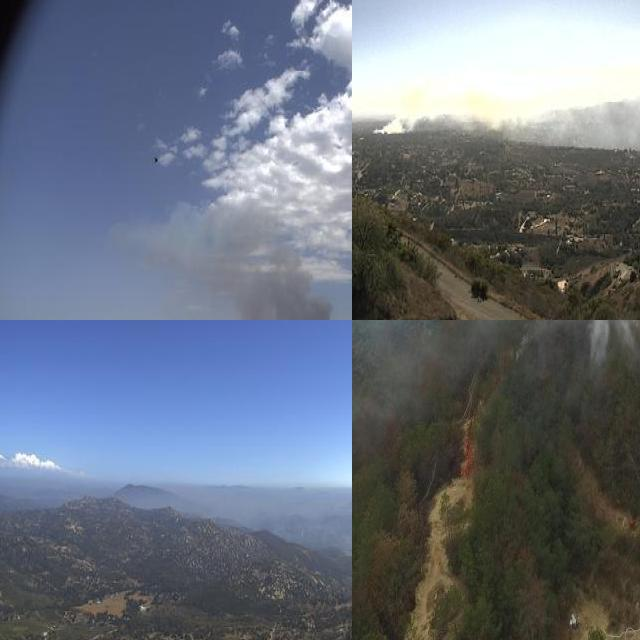smoke: (352, 320, 640, 437), (137, 193, 352, 320), (376, 87, 640, 143)
